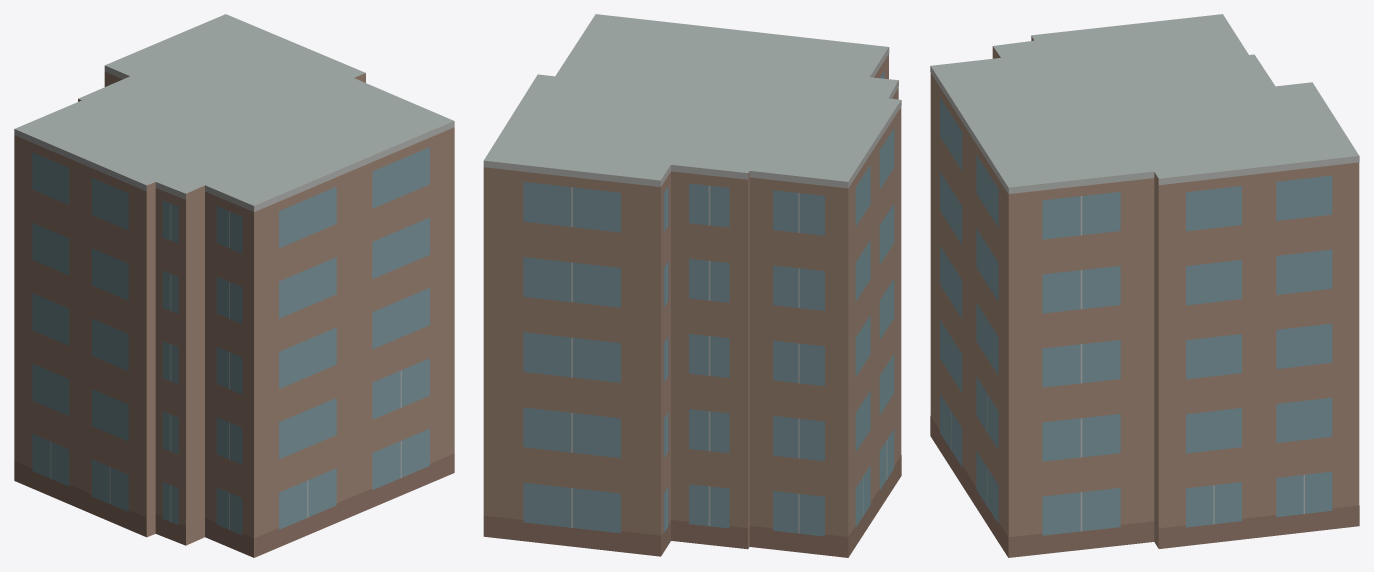
Rendered from survey-upis-32458523.glb.
3 views of the same model, side by side, from view 1: azimuth 30°, elevation 25°; view 2: azimuth 150°, elevation 25°; view 3: azimuth 270°, elevation 25° (orthographic). The views are drawn at different scales.
Visible parts, largest first — view 1: survey-upis-32458523.tmp; view 2: survey-upis-32458523.tmp; view 3: survey-upis-32458523.tmp.
Part boxes in pixels (x1,y1,x2,y2): survey-upis-32458523.tmp: (14, 14, 454, 557); survey-upis-32458523.tmp: (483, 14, 901, 557); survey-upis-32458523.tmp: (930, 14, 1359, 557).
Size of the model in its own units: 14.1 by 14 by 14.71.
